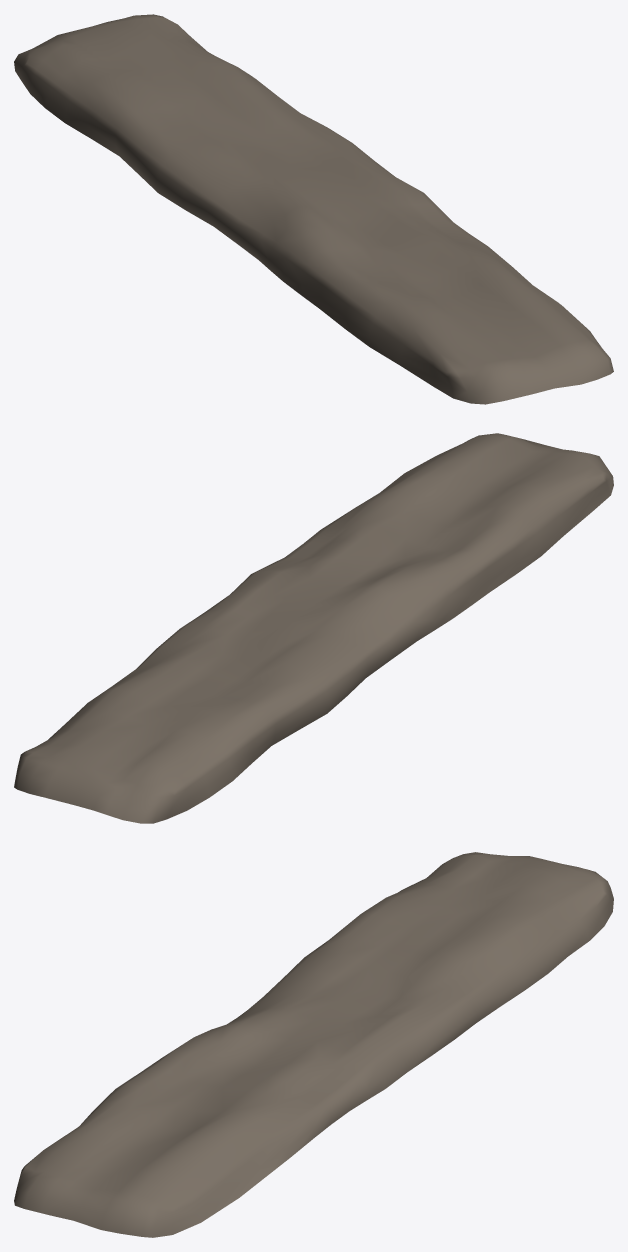
Rendered from Horta.fbx.
The picture shows the model from 3 angles, top to bottom: view 1: azimuth 30°, elevation 25°; view 2: azimuth 150°, elevation 25°; view 3: azimuth 330°, elevation 25°; orthographic projection.
Visible parts, largest first — view 1: Horta; view 2: Horta; view 3: Horta.
Part boxes in pixels (x1,y1,x2,y2): Horta: (14, 14, 613, 404); Horta: (14, 433, 613, 823); Horta: (14, 852, 613, 1237).
Size of the model in its own units: 90.52 by 22.31 by 415.
